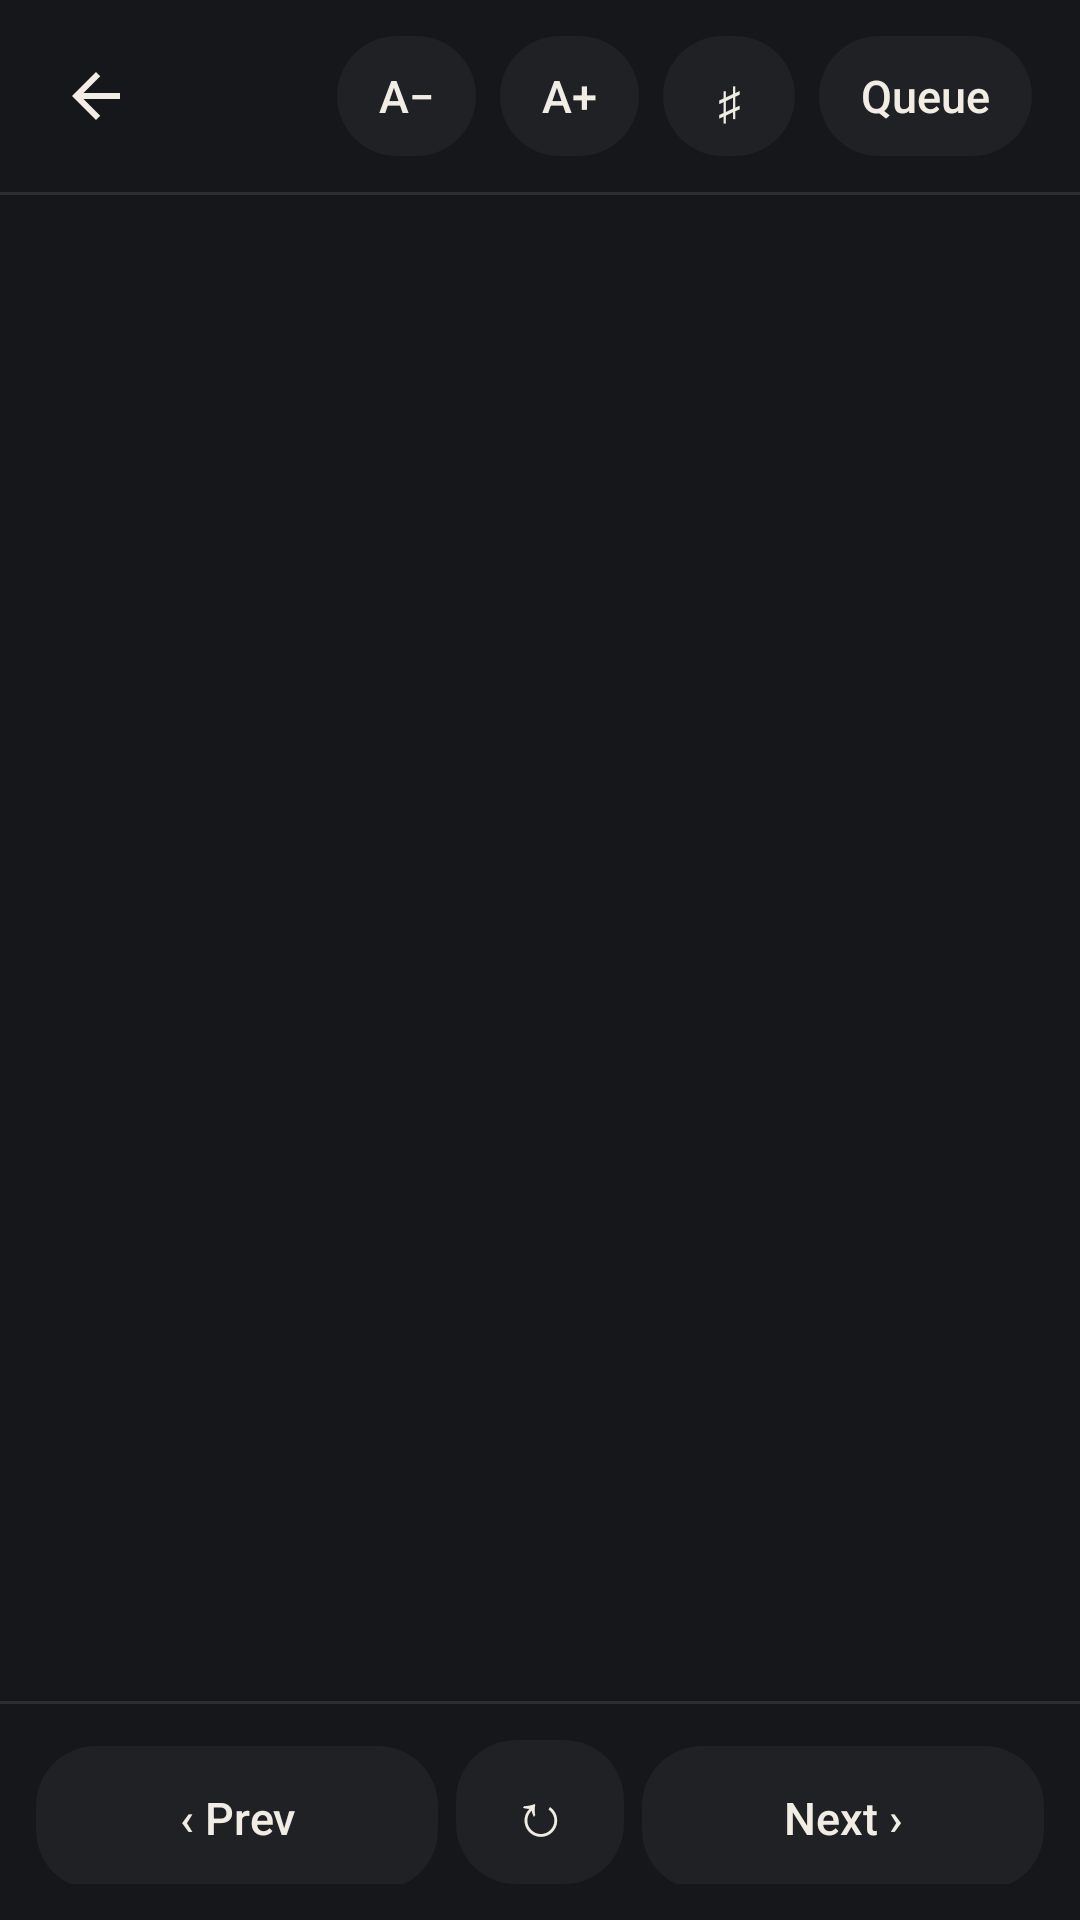

Where to tap for icons on this 1080*1920 app screen, as [x,y]:
Back to song list: [96,96]
